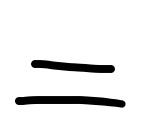eqv: (14, 60, 127, 110)
